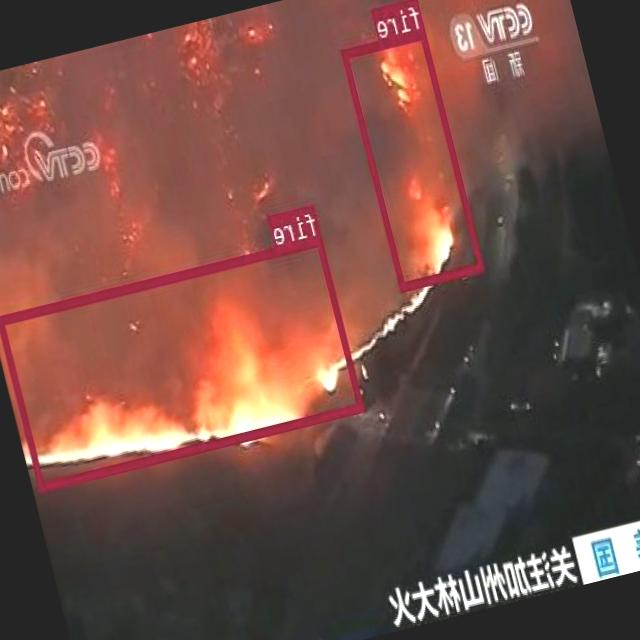fire: (0, 235, 365, 490), (342, 28, 484, 290)
